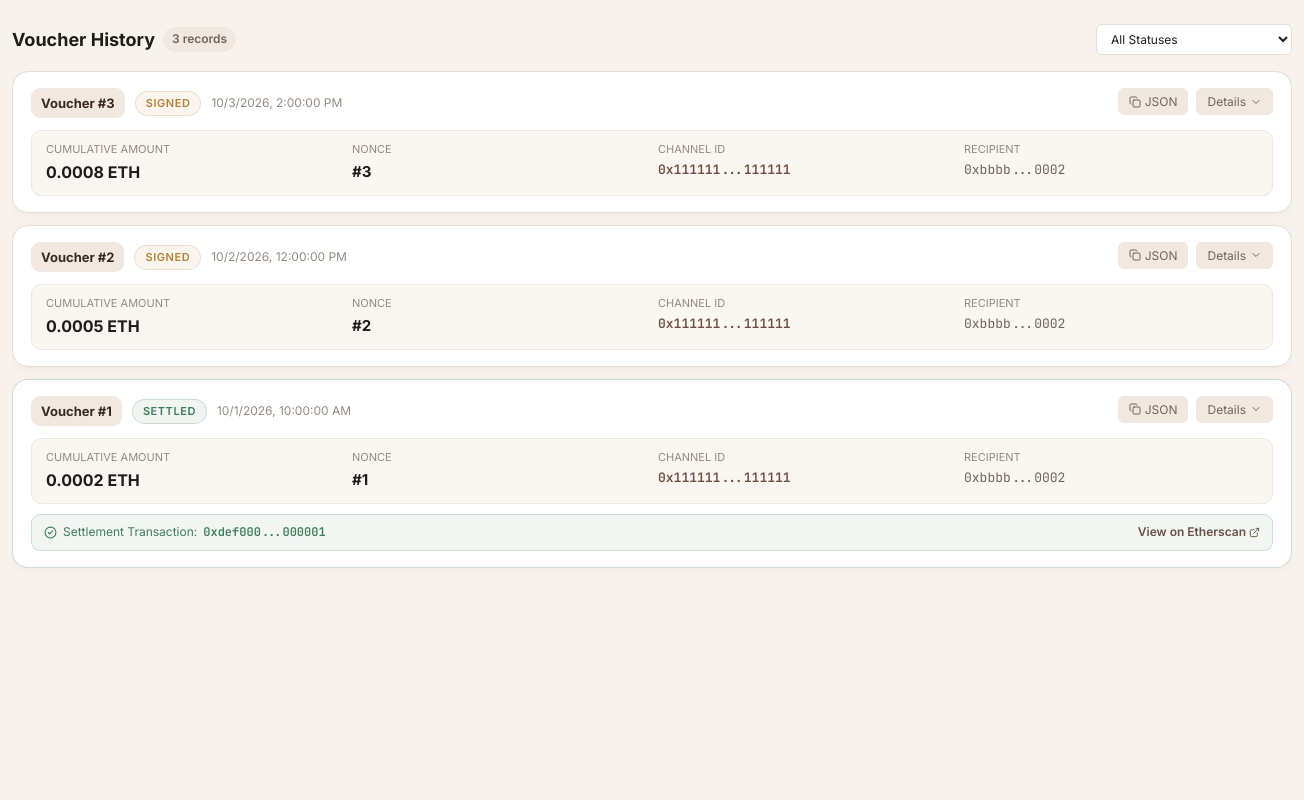
Test: CRITICAL PAYMENT SAFETY RULE — VOUCHER AMOUNT & HISTORY › Voucher History Preservation — Never Overwrite › filters vouchers by status properly
Select "SETTLED" in the dropdown showing "All Statuses" at coordinates (1194, 40), box left=1096, top=24, right=1292, bottom=55
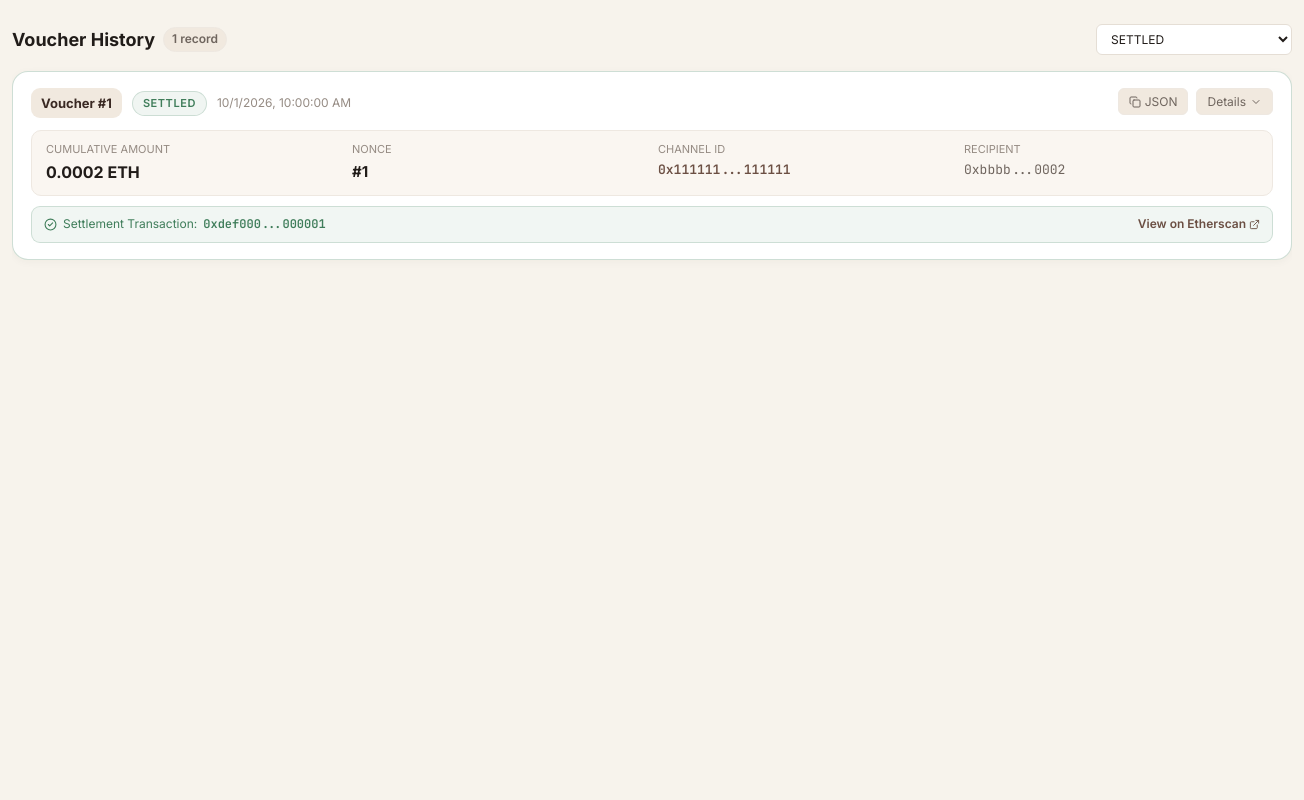
Expected: the text "Voucher #1" is shown, left=31, top=88, right=122, bottom=118
Now the text "Voucher #2" is gone
Now the text "Voucher #3" is gone
